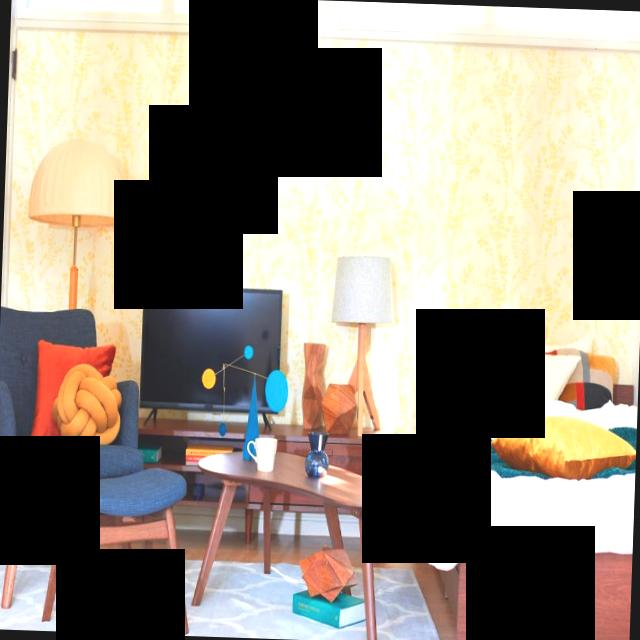vintage bed: (395, 318, 640, 640)
vintage desk: (186, 438, 403, 640)
